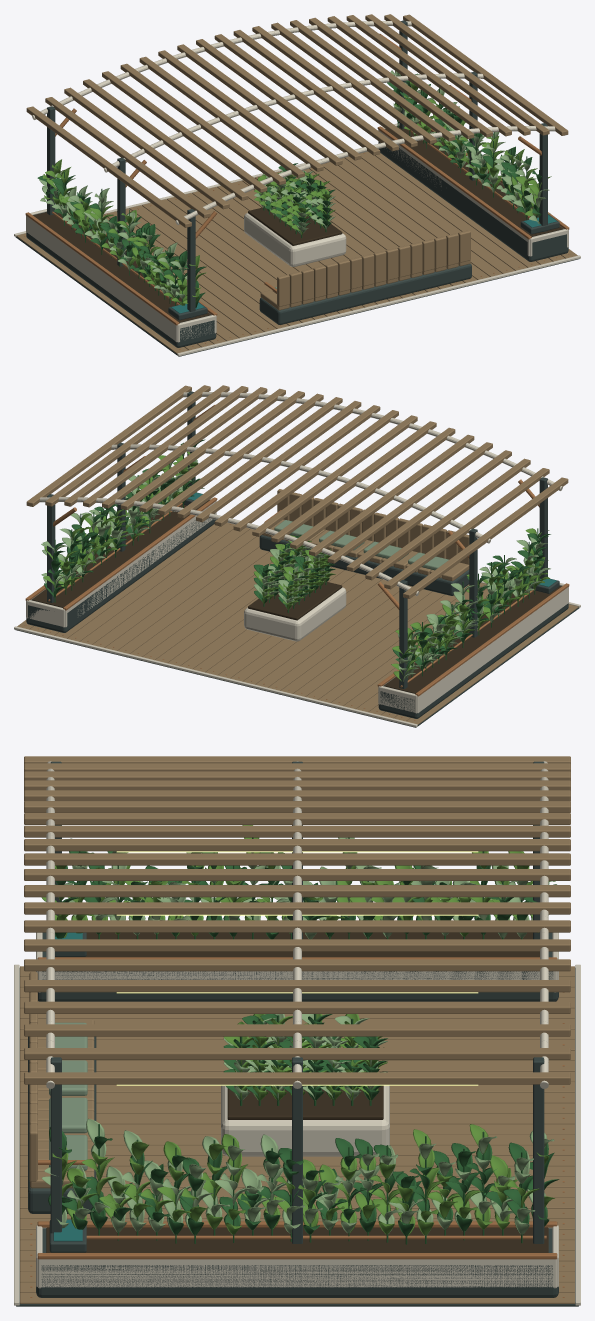
File: living-commons.glb
The picture shows the model from 3 angles, top to bottom: view 1: azimuth 30°, elevation 25°; view 2: azimuth 150°, elevation 25°; view 3: azimuth 270°, elevation 25°; orthographic projection. The views are drawn at different scales.
Visible parts, largest first — view 1: CanopySlats_Timber, Terrace_Timber, Bench_Timber, Planting_LeafDark, Planting_LeafLight, Planting_LeafSilver, Planter_Graphite, Planter_Soil, Planter_Ceramic, Pergola_Ceramic, Pergola_Graphite, Bench_Graphite (+8 smaller); view 2: CanopySlats_Timber, Terrace_Timber, Planting_LeafDark, Planting_LeafLight, Planter_Ceramic, Planting_LeafSilver, Planter_Soil, Planter_Graphite, Bench_Timber, Pergola_Ceramic, Pergola_Graphite, Island_Ceramic (+8 smaller); view 3: CanopySlats_Timber, Terrace_Timber, Planter_Ceramic, Planter_Graphite, Planting_LeafDark, Planting_LeafLight, Planting_LeafSilver, Planter_Soil, Planter_Copper, Pergola_Graphite, Island_Ceramic, Pergola_Ceramic (+9 smaller).
Boxes of the visible parts, bbox=[...] form: CanopySlats_Timber: bbox=[26, 14, 568, 227]; Terrace_Timber: bbox=[16, 151, 577, 353]; Bench_Timber: bbox=[260, 230, 470, 310]; Planting_LeafDark: bbox=[37, 73, 541, 307]; Planting_LeafLight: bbox=[42, 81, 551, 305]; Planting_LeafSilver: bbox=[39, 70, 550, 298]; Planter_Graphite: bbox=[26, 126, 568, 347]; Planter_Soil: bbox=[33, 123, 562, 322]; Planter_Ceramic: bbox=[26, 123, 568, 342]; Pergola_Ceramic: bbox=[32, 21, 555, 224]; Pergola_Graphite: bbox=[47, 20, 547, 317]; Bench_Graphite: bbox=[259, 264, 471, 324]; CanopySlats_Timber: bbox=[26, 385, 568, 598]; Terrace_Timber: bbox=[17, 522, 578, 724]; Planting_LeafDark: bbox=[44, 439, 550, 680]; Planting_LeafLight: bbox=[43, 451, 550, 681]; Planter_Ceramic: bbox=[26, 498, 568, 713]; Planting_LeafSilver: bbox=[41, 452, 550, 681]; Planter_Soil: bbox=[32, 500, 561, 693]; Planter_Graphite: bbox=[26, 500, 568, 718]; Bench_Timber: bbox=[262, 489, 469, 581]; Pergola_Ceramic: bbox=[39, 392, 562, 595]; Pergola_Graphite: bbox=[47, 391, 547, 688]; Island_Ceramic: bbox=[244, 587, 346, 641]; CanopySlats_Timber: bbox=[24, 756, 570, 1084]; Terrace_Timber: bbox=[20, 966, 574, 1303]; Planter_Ceramic: bbox=[36, 932, 558, 1288]; Planter_Graphite: bbox=[36, 932, 558, 1297]; Planting_LeafDark: bbox=[48, 837, 559, 1244]; Planting_LeafLight: bbox=[41, 825, 555, 1236]; Planting_LeafSilver: bbox=[42, 837, 556, 1235]; Planter_Soil: bbox=[46, 932, 548, 1252]; Planter_Copper: bbox=[37, 957, 557, 1259]; Pergola_Graphite: bbox=[50, 761, 544, 1243]; Island_Ceramic: bbox=[221, 1085, 389, 1156]; Pergola_Ceramic: bbox=[46, 761, 548, 1088].
Size of the model in its own units: 9.94 by 3.67 by 7.05.
